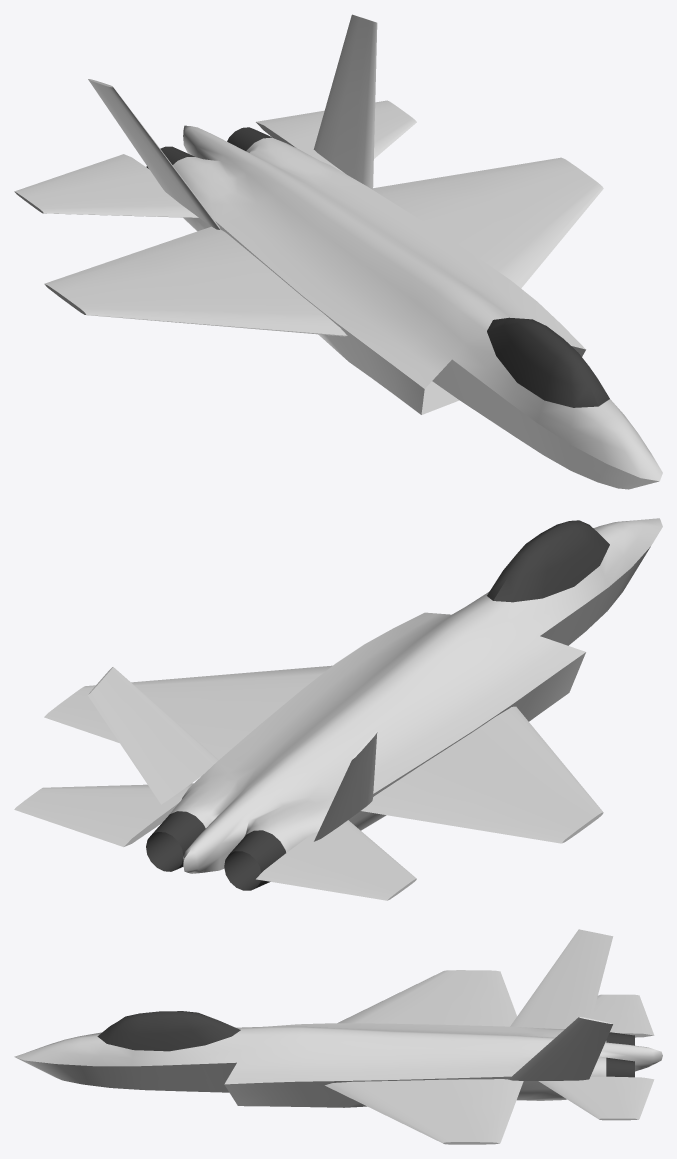
Rendered from TestAircraft.fbx.
3 views of the same model, one above another, from view 1: azimuth 30°, elevation 25°; view 2: azimuth 150°, elevation 25°; view 3: azimuth 270°, elevation 25° (orthographic). The views are drawn at different scales.
Visible parts, largest first — view 1: Fighter.001, Fighter; view 2: Fighter.001, Fighter; view 3: Fighter.001, Fighter.
Part boxes in pixels (<box>): Fighter.001: <box>14,14,662,489</box>; Fighter: <box>146,127,609,407</box>; Fighter.001: <box>14,518,662,900</box>; Fighter: <box>146,520,609,890</box>; Fighter.001: <box>14,929,662,1144</box>; Fighter: <box>97,1011,634,1077</box>.
Size of the model in its own units: 678 by 212 by 1082.
2 materials, 1 textured.
